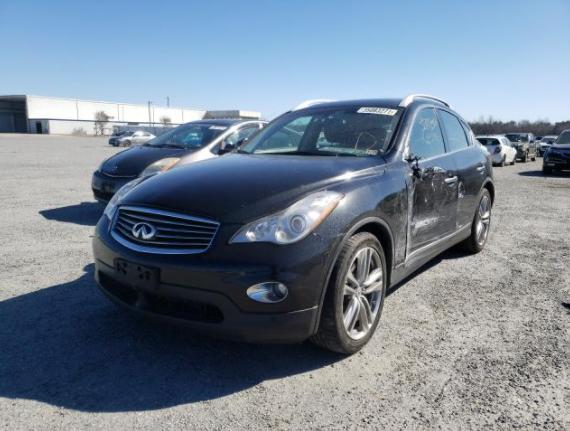Back-door: (437, 107, 487, 231)
Back-wheel: (468, 188, 492, 254)
Back-window: (439, 110, 474, 151)
Fender: (311, 151, 408, 267)
Front-bumper: (92, 213, 336, 350)
Front-door: (403, 105, 459, 253)
Front-wheel: (318, 230, 388, 356)
Front-window: (409, 108, 446, 162)
Grille: (110, 203, 221, 255)
Headlight: (228, 190, 347, 247), (102, 173, 157, 224)
Hood: (118, 152, 386, 224)
Quarter-panel: (474, 142, 495, 196)
Rocker-panel: (390, 221, 472, 289)
Roof: (285, 94, 446, 114)
Windshield: (232, 105, 409, 156)
